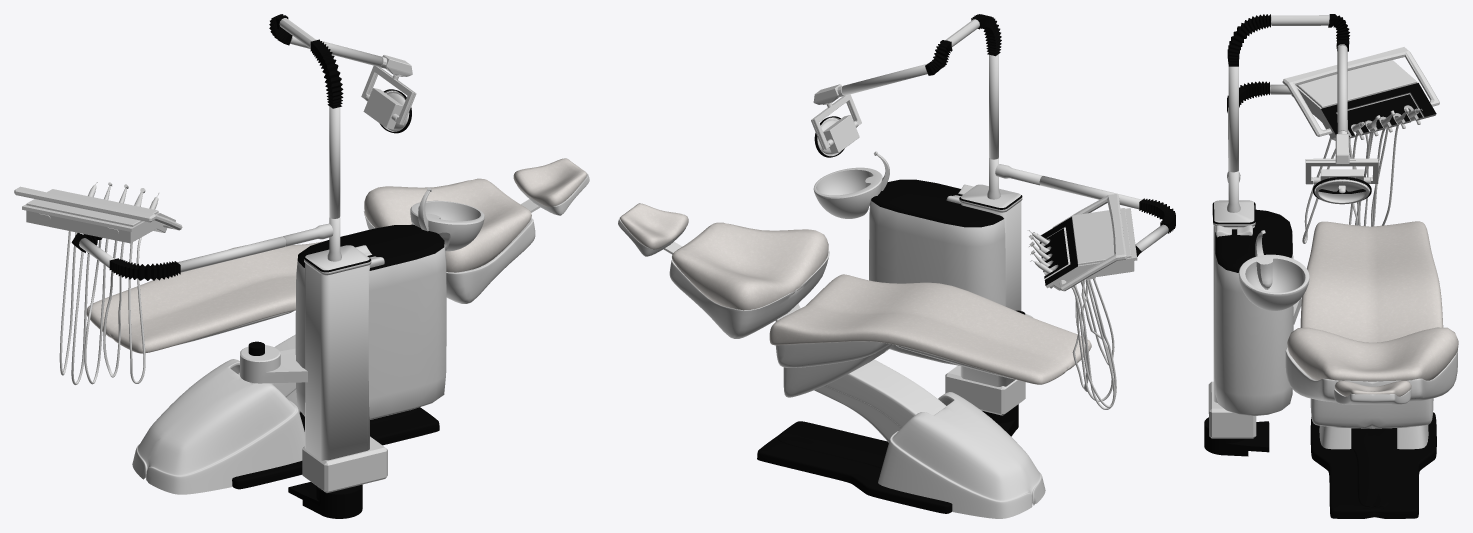
The model's file is ENDDentalChair.fbx.
The picture shows the model from 3 angles, left to right: view 1: azimuth 30°, elevation 25°; view 2: azimuth 150°, elevation 25°; view 3: azimuth 270°, elevation 25°; orthographic projection. The views are drawn at different scales.
Parts seen in each view (by area): view 1: DentalChair; view 2: DentalChair; view 3: DentalChair.
Boxes of the visible parts, left/top/right/bottom form: DentalChair: left=14, top=14, right=589, bottom=518; DentalChair: left=618, top=14, right=1175, bottom=518; DentalChair: left=1204, top=14, right=1458, bottom=518.
Size of the model in its own units: 230 by 180 by 96.68.
